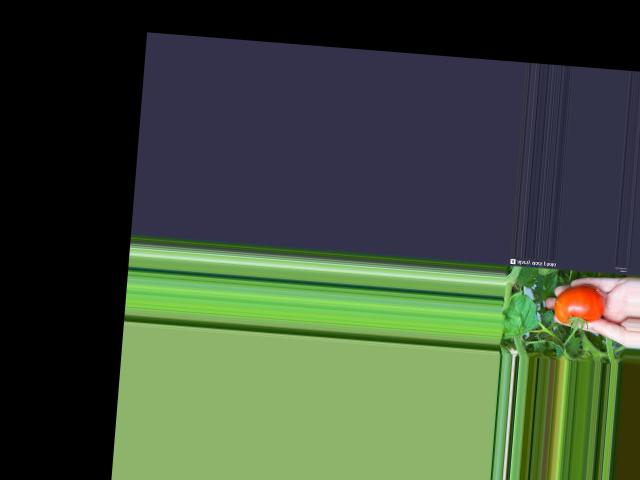tomato: (553, 283, 607, 326)
